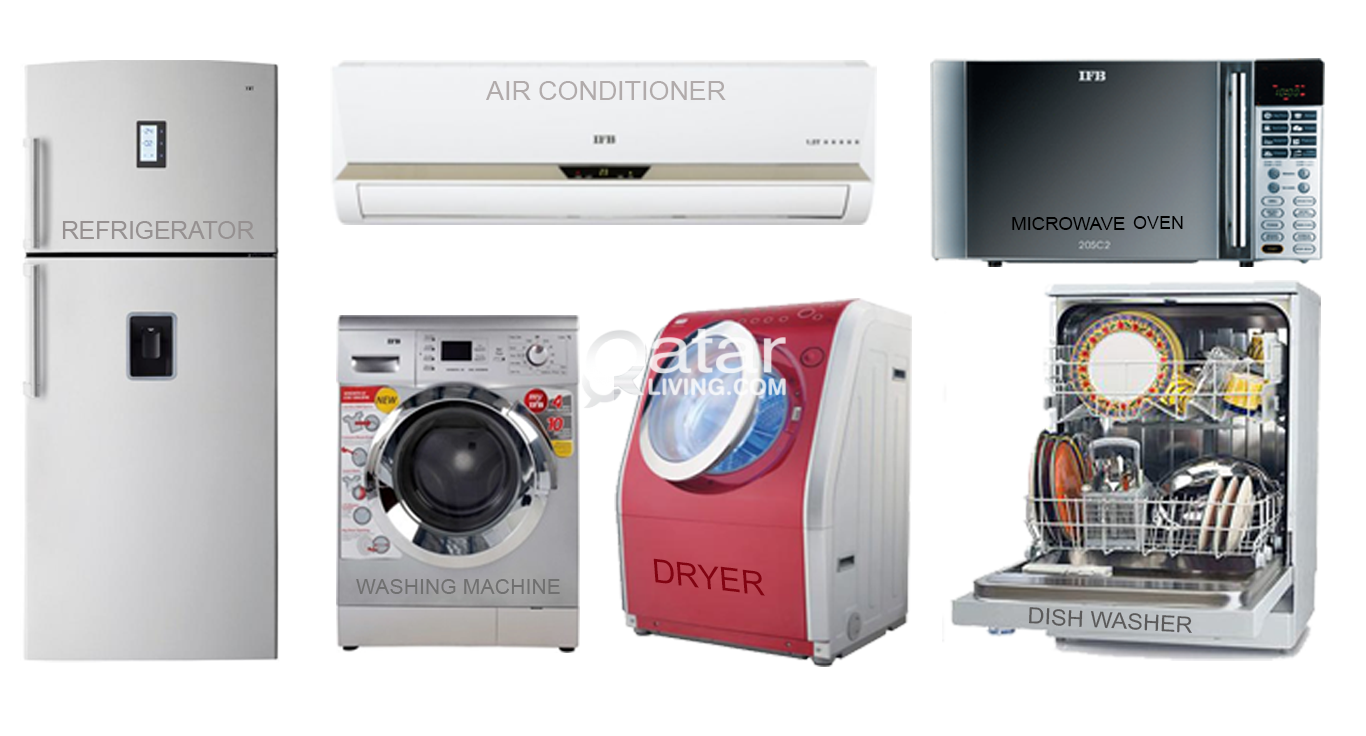AC: (329, 55, 886, 221)
Refrigerator: (14, 60, 279, 661)
